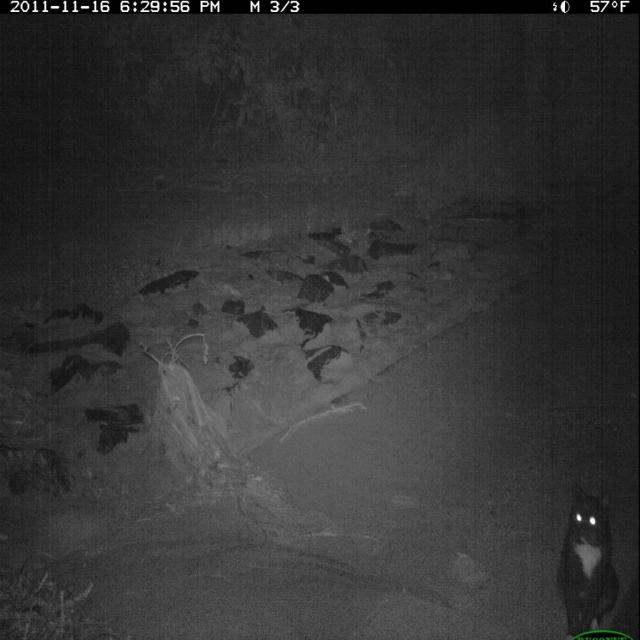cat: (547, 472, 624, 640)
